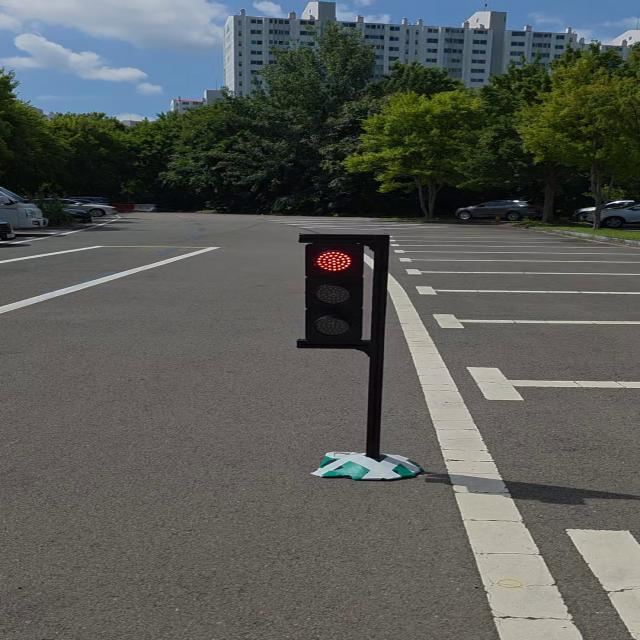red: (289, 235, 385, 347)
